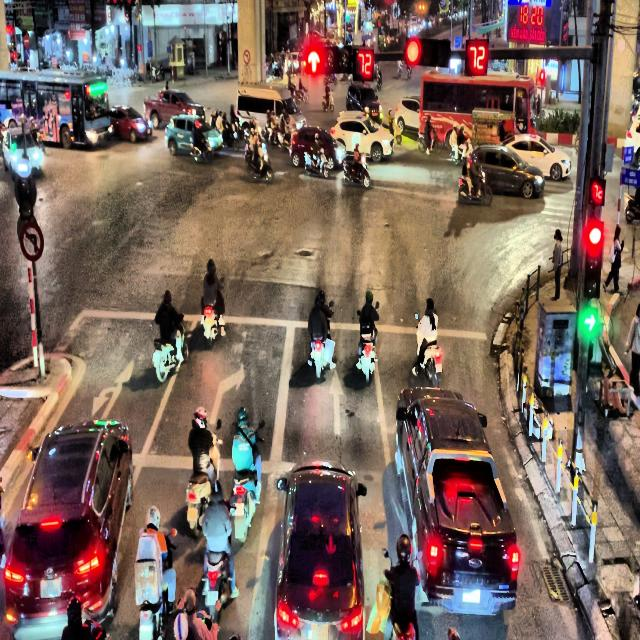BUS: (418, 70, 538, 150), (0, 69, 111, 149)
CAR: (3, 419, 133, 639), (412, 449, 520, 616), (274, 461, 367, 639), (467, 144, 545, 200), (501, 133, 572, 181), (330, 112, 394, 162), (164, 113, 224, 161), (290, 126, 346, 170), (143, 90, 205, 129), (2, 128, 44, 178), (108, 105, 152, 143), (346, 82, 382, 120), (394, 97, 420, 135)
MOTORBIKE: (134, 528, 177, 640), (197, 498, 236, 616), (185, 431, 222, 536), (152, 320, 189, 382), (413, 313, 443, 387), (308, 300, 334, 378), (356, 309, 378, 383), (201, 281, 224, 348), (458, 165, 492, 206), (244, 142, 274, 182), (342, 153, 370, 188), (304, 148, 330, 179), (190, 135, 214, 163), (418, 129, 441, 153), (322, 88, 334, 112)
